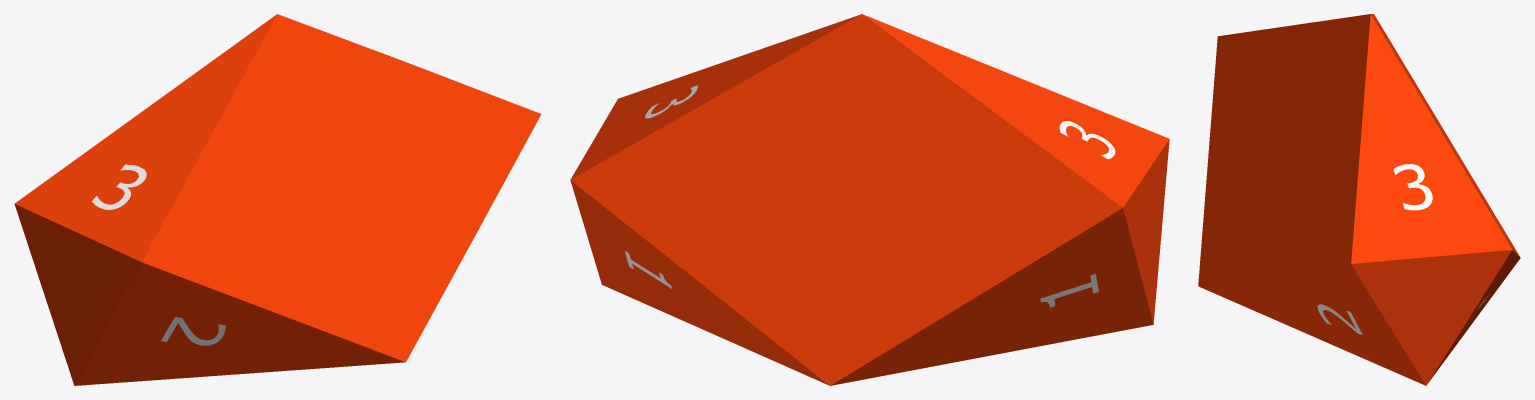
File: dnd_dice_d3.dae
3 views of the same model, side by side, from view 1: azimuth 30°, elevation 25°; view 2: azimuth 150°, elevation 25°; view 3: azimuth 270°, elevation 25° (orthographic). The views are drawn at different scales.
Parts seen in each view (by area): view 1: group_0, instance_1, instance_2; view 2: group_0; view 3: group_0, instance_0, instance_3.
Part boxes in pixels (x1,y1,x2,y2): group_0: (14,14,541,385); instance_1: (92,164,146,209); instance_2: (161,317,225,345); group_0: (570,14,1169,385); group_0: (1198,14,1520,385); instance_0: (1393,164,1432,210); instance_3: (1317,304,1362,334).
Size of the model in its own units: 1.44 by 0.8672 by 0.8065.
